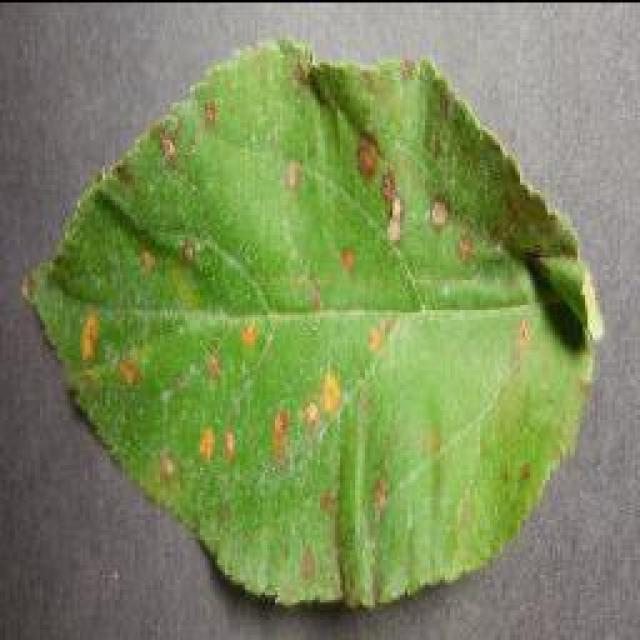apple scab disease: (20, 35, 605, 613)
